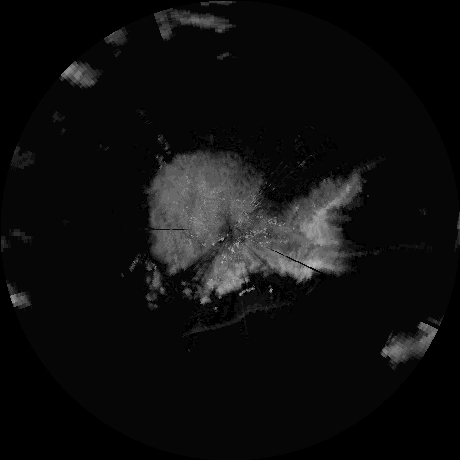frontgust: (188, 299, 298, 335)
